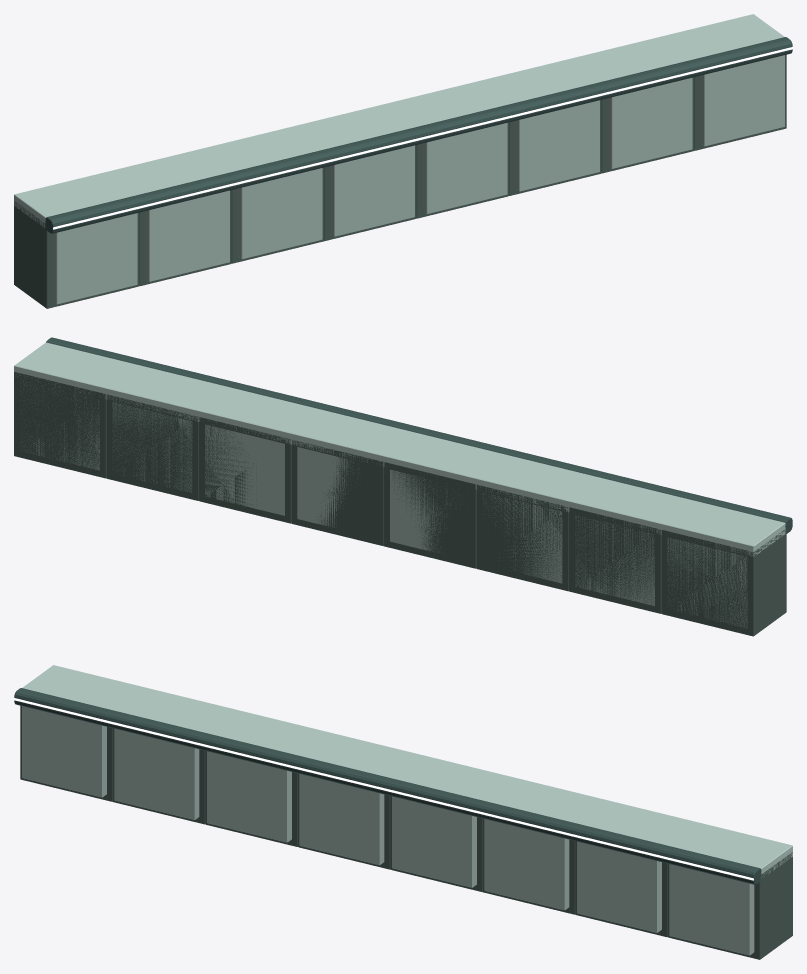
The model's file is Terrain_TopRun8.gltf.
3 views of the same model, one above another, from view 1: azimuth 30°, elevation 25°; view 2: azimuth 150°, elevation 25°; view 3: azimuth 330°, elevation 25° (orthographic).
Parts seen in each view (by area): view 1: Terrain_TopRun8_baked; view 2: Terrain_TopRun8_baked; view 3: Terrain_TopRun8_baked.
Part boxes in pixels (left/top/right/bottom): Terrain_TopRun8_baked: left=14, top=14, right=792, bottom=308; Terrain_TopRun8_baked: left=14, top=337, right=792, bottom=636; Terrain_TopRun8_baked: left=14, top=665, right=792, bottom=959.
Size of the model in its own units: 8 by 0.9495 by 0.74.
